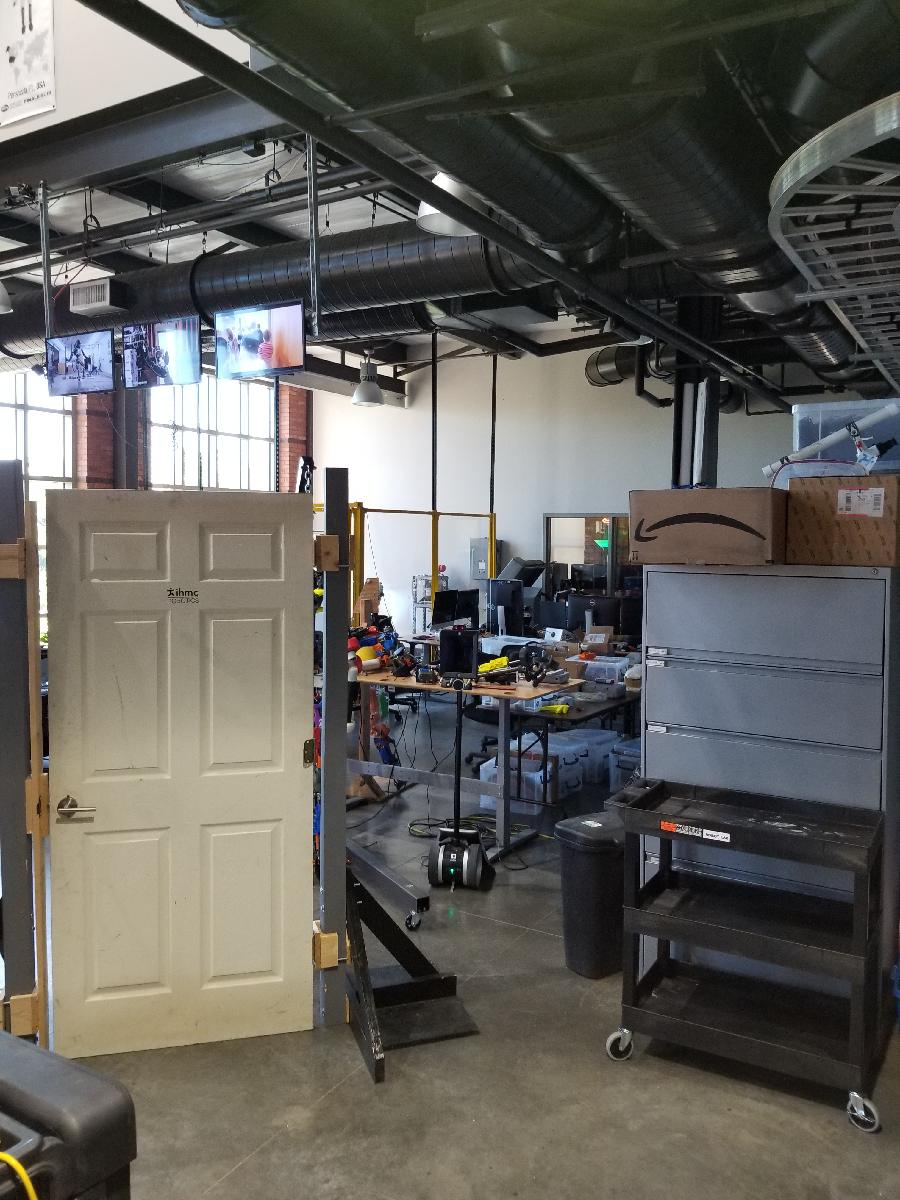door: (38, 484, 319, 1066)
doorHandle: (52, 794, 104, 822)
